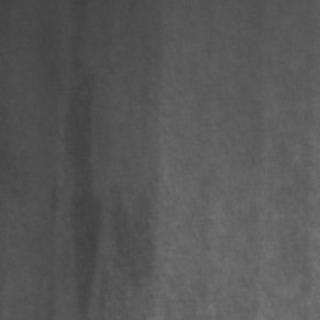inclusion: (45, 24, 105, 316)
